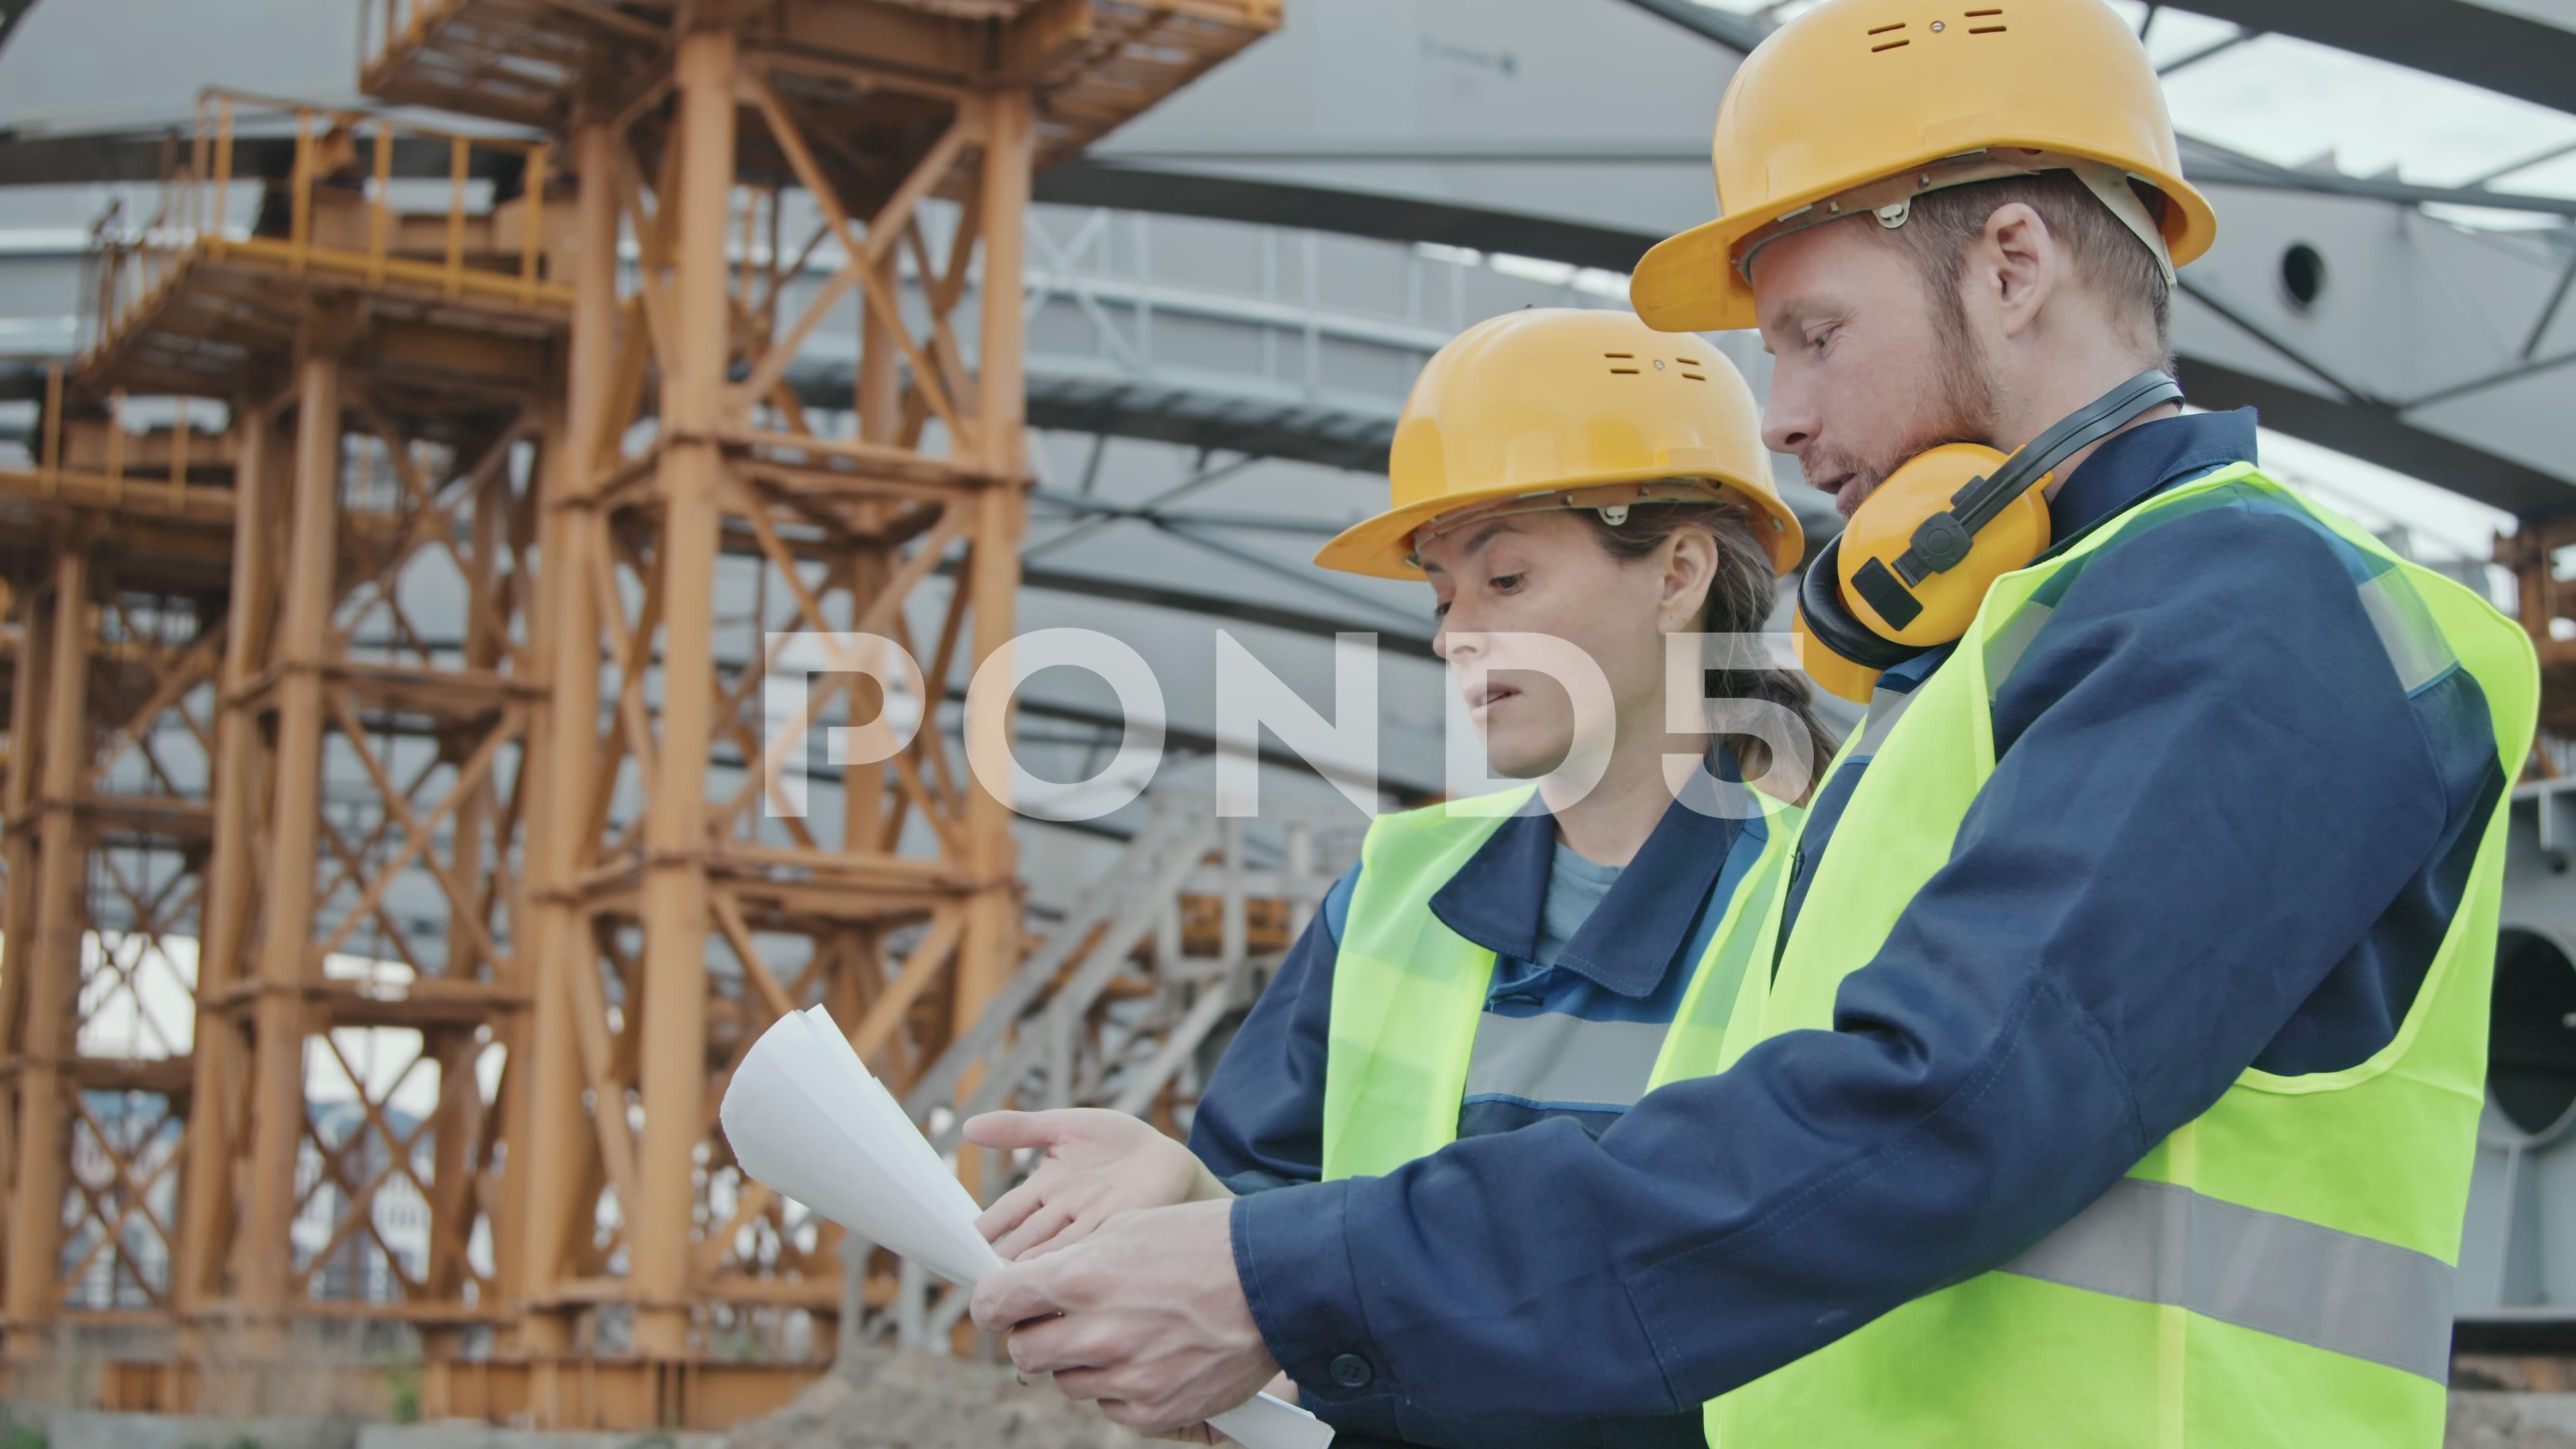hat: (1576, 0, 2348, 380), (1313, 287, 1833, 658)
vest: (1736, 433, 2576, 1449), (1253, 748, 1868, 1449)
